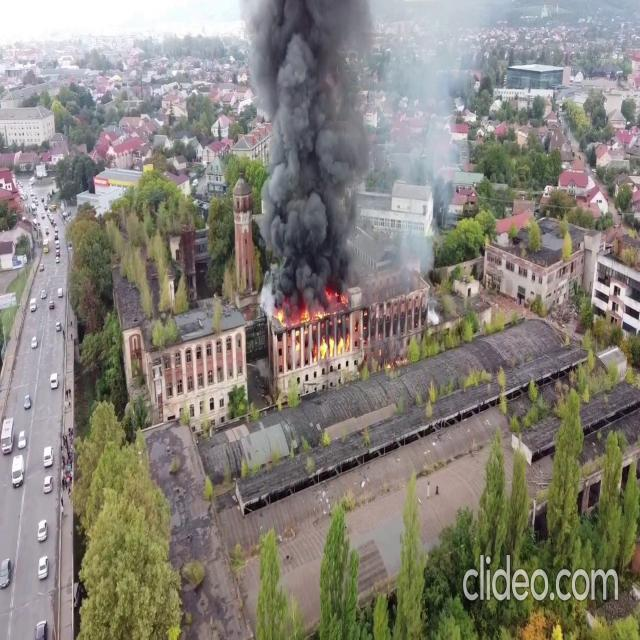Smoke: (248, 0, 427, 315)
